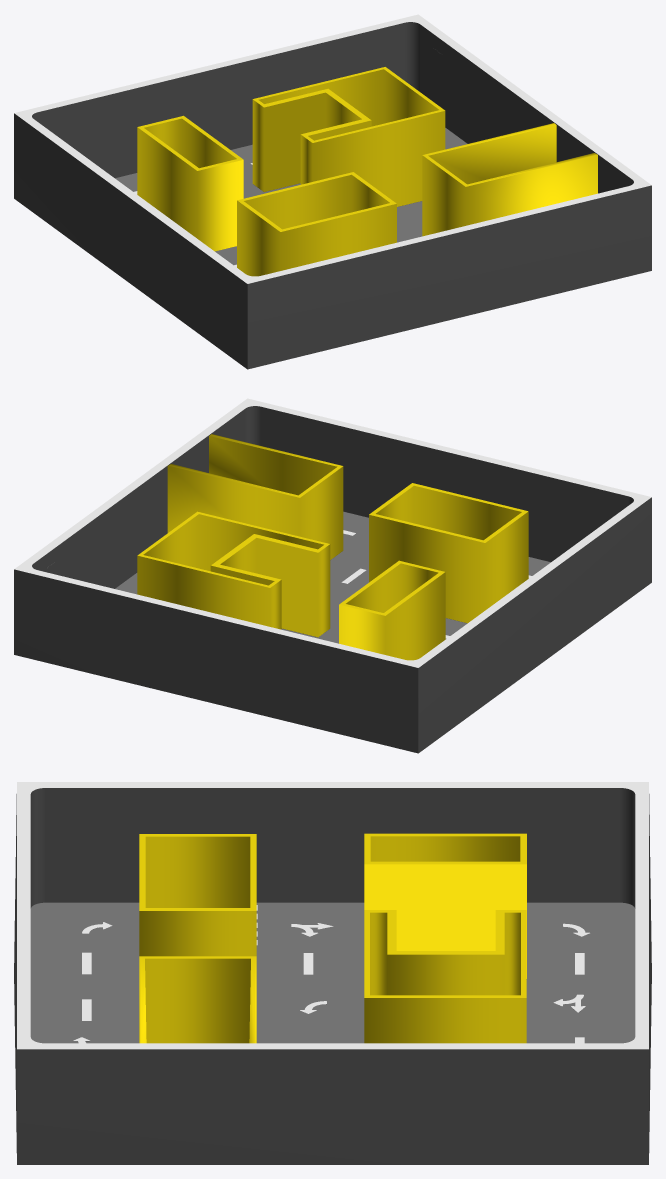
3 renders of one model, top to bottom at view 1: azimuth 30°, elevation 25°; view 2: azimuth 150°, elevation 25°; view 3: azimuth 270°, elevation 25°, orthographic. The views are drawn at different scales.
Parts seen in each view (by area): view 1: Body1; view 2: Body1; view 3: Body1.
Boxes of the visible parts, bbox=[...] form: Body1: bbox=[14, 14, 651, 369]; Body1: bbox=[14, 398, 651, 753]; Body1: bbox=[14, 782, 651, 1164].
Bounding box in the file's own units: 1.26 × 1.26 × 0.252.
